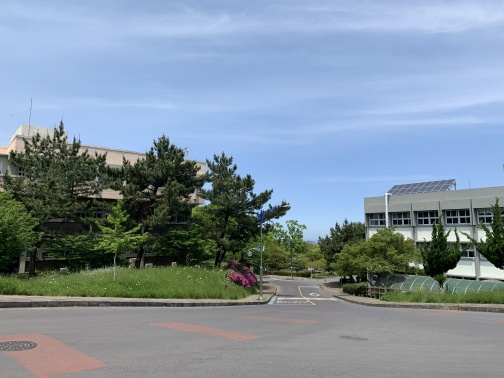College Of Education: (3, 125, 209, 279)
